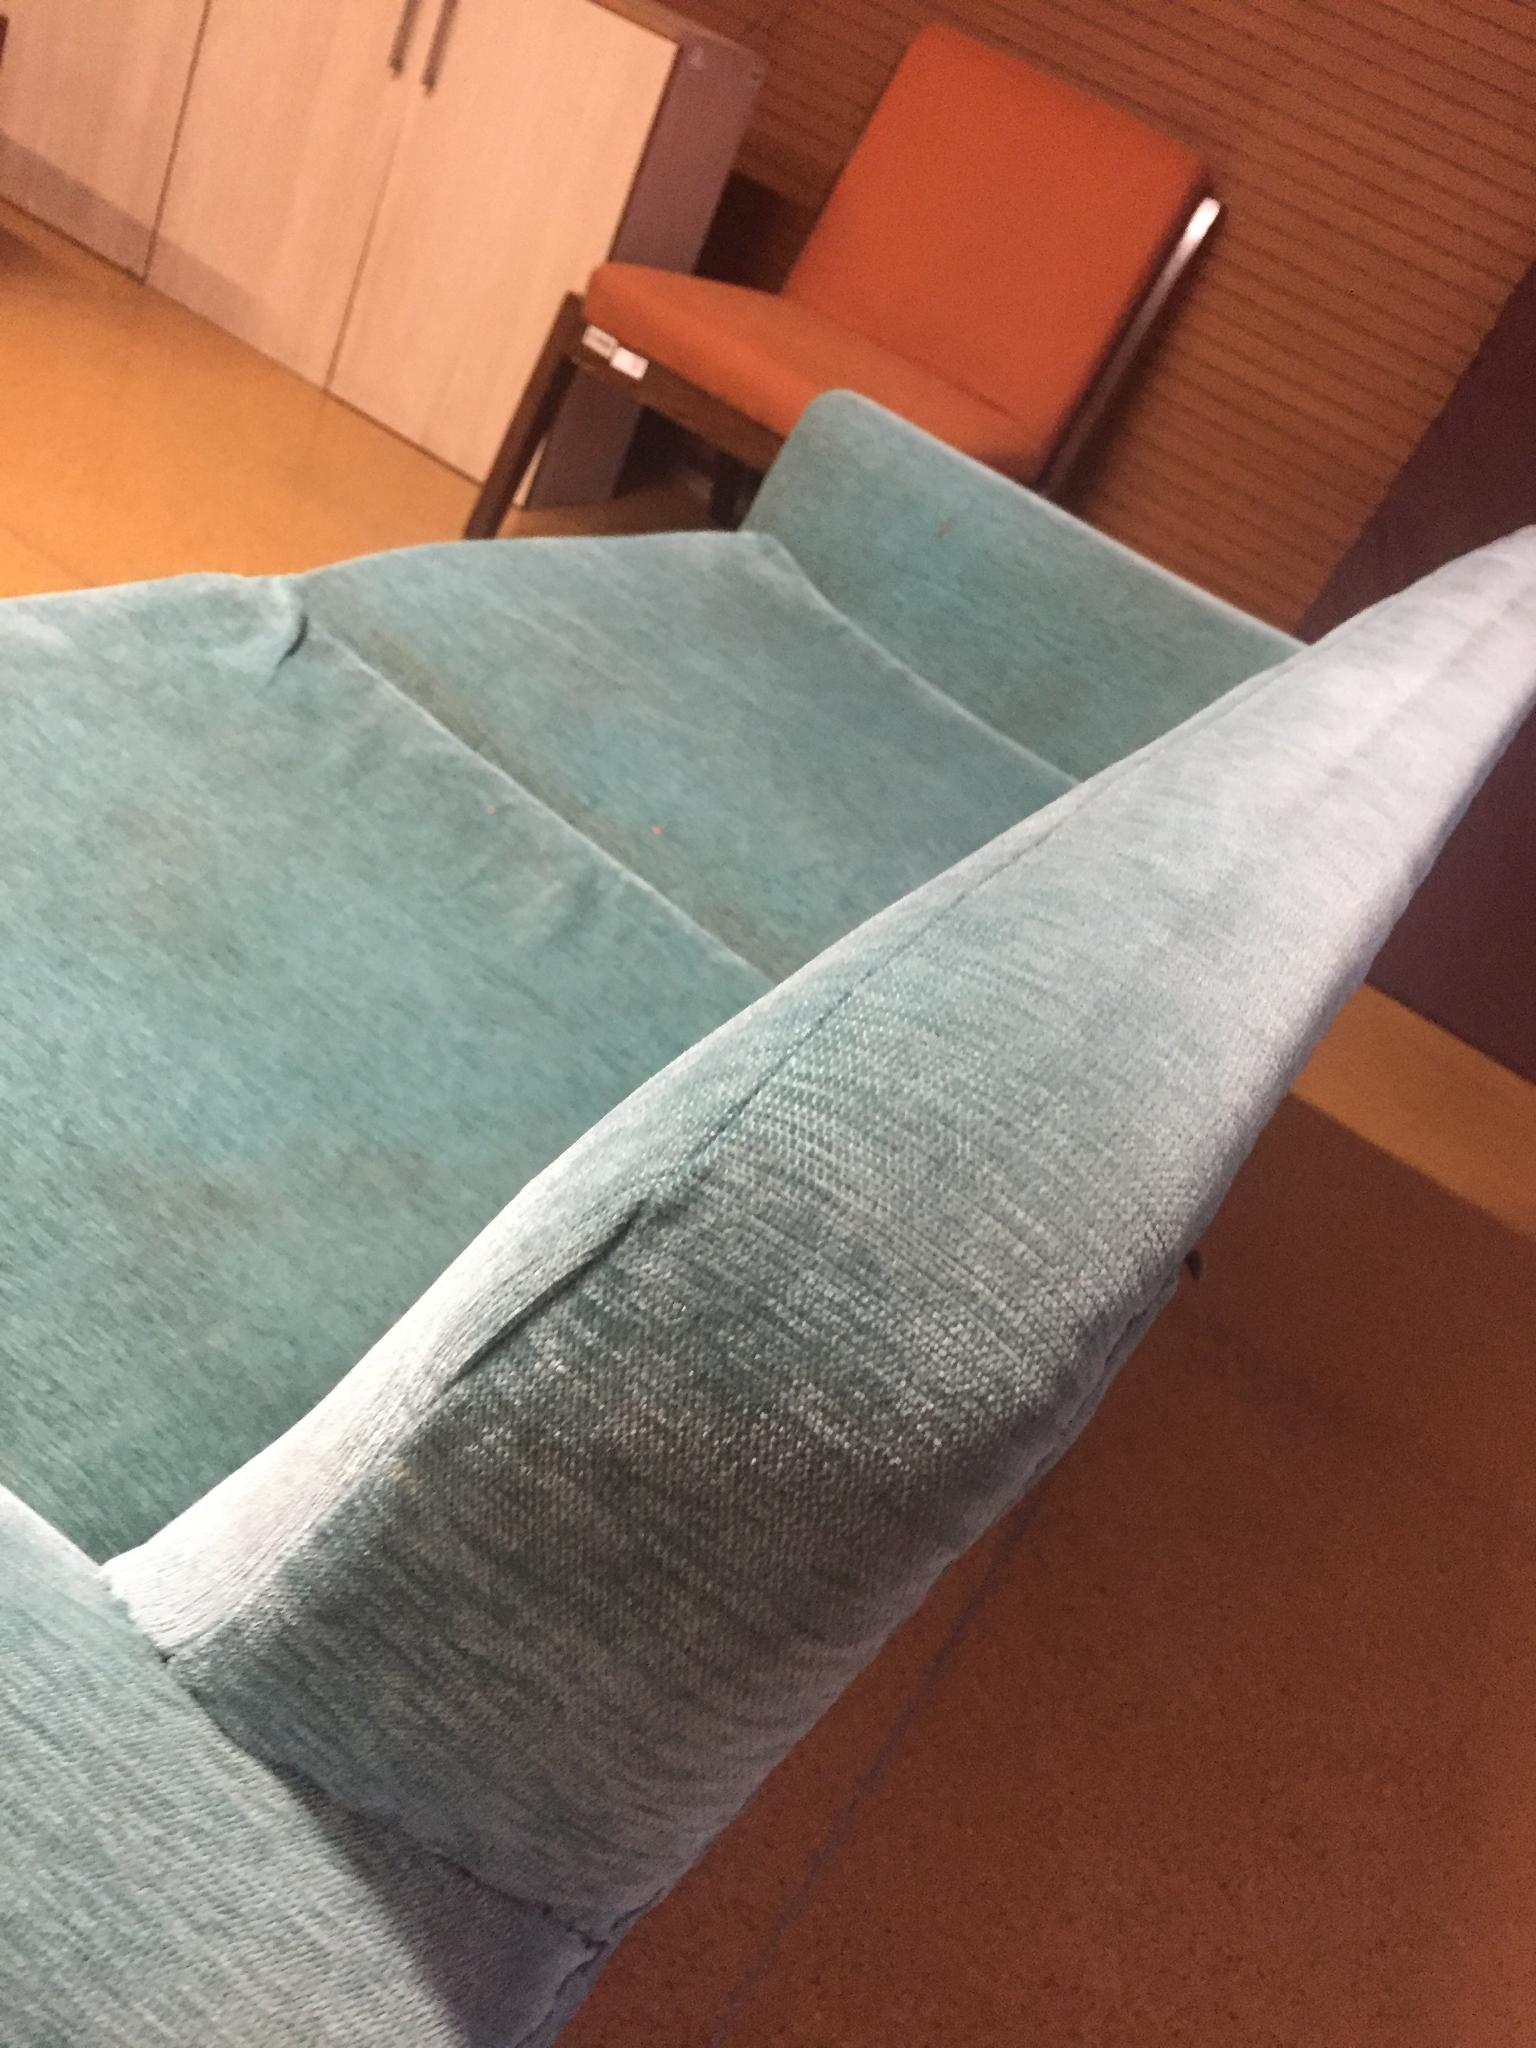chair: (461, 19, 1225, 539)
